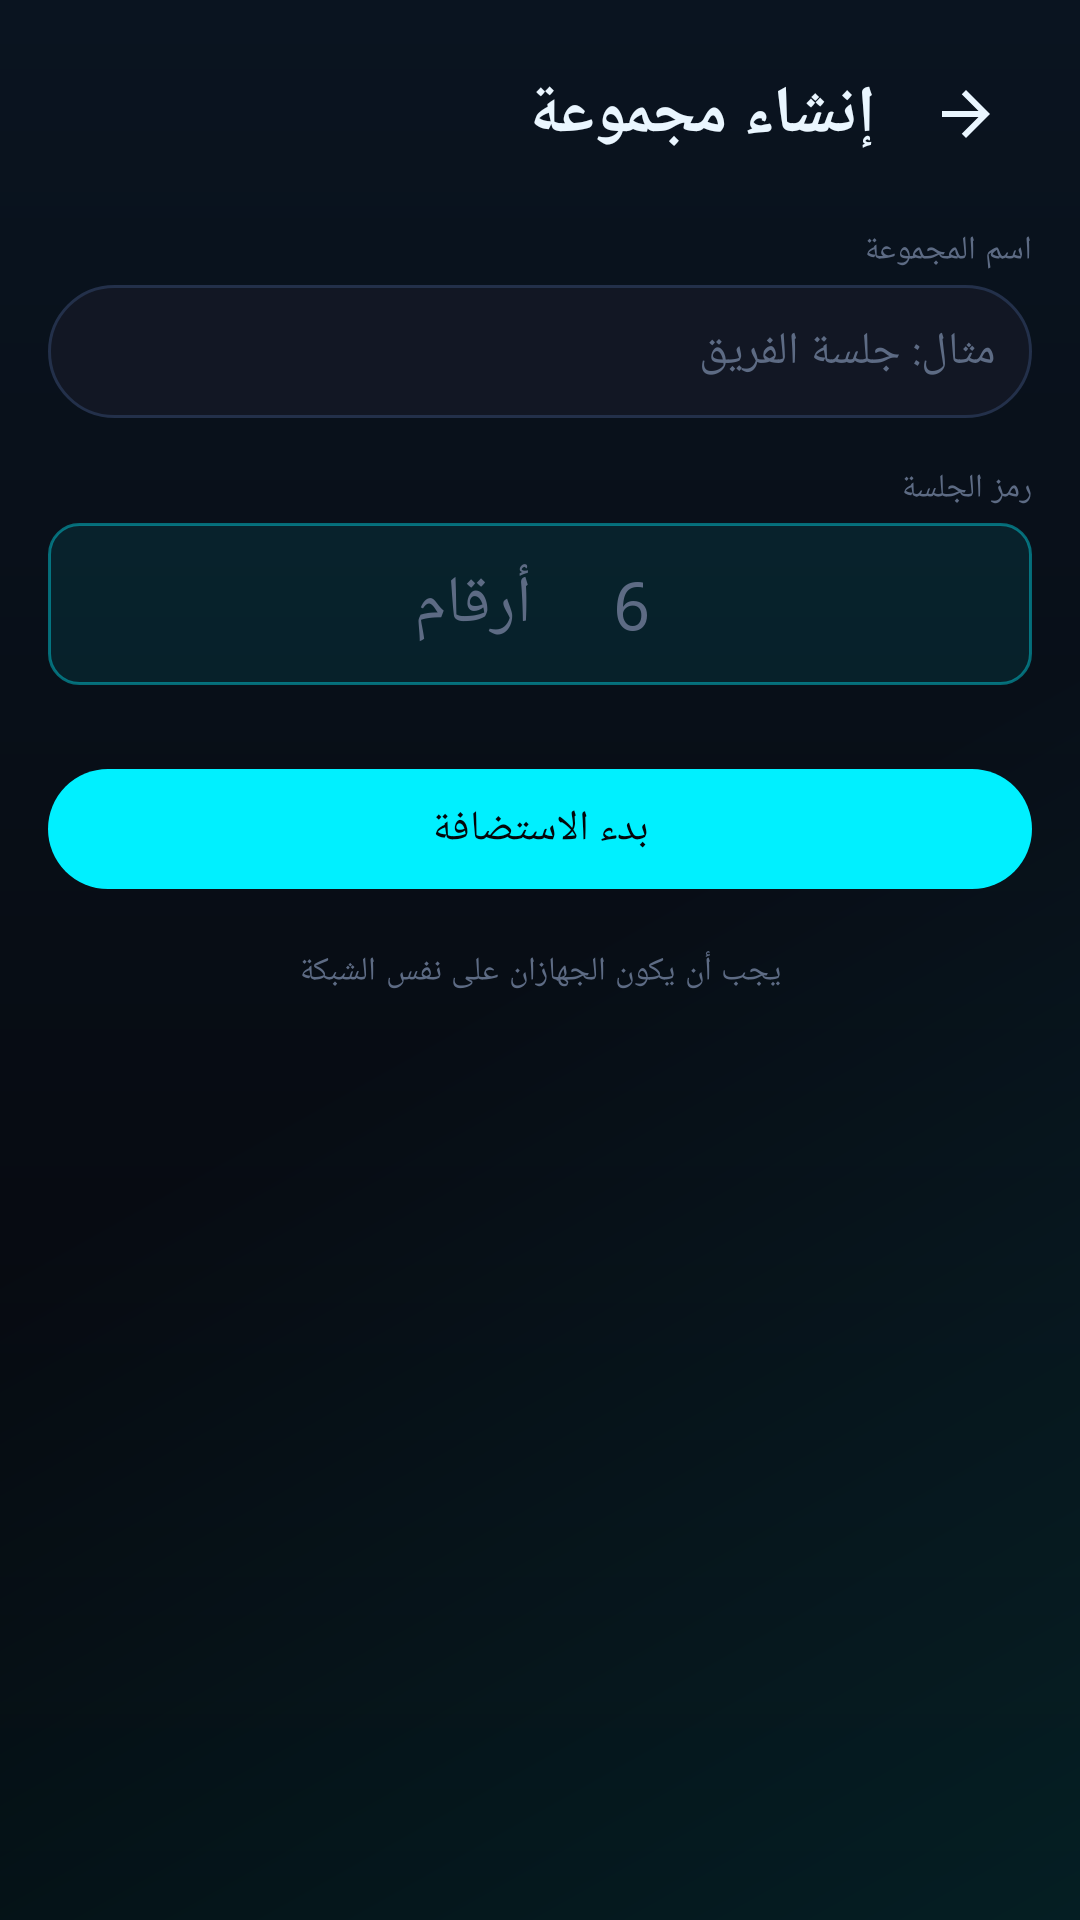

Named icons in this screenshot (1080x1920) and their bounding boxes, region(x1, y1, x2, y2):
رجوع: region(942, 90, 990, 138)
